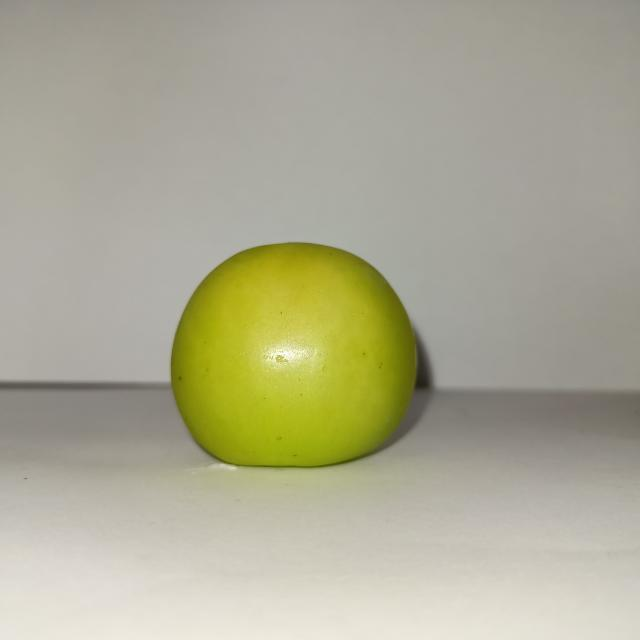Red: (169, 240, 419, 468)
